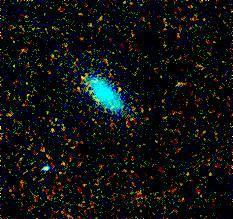star: (108, 73, 138, 103)
